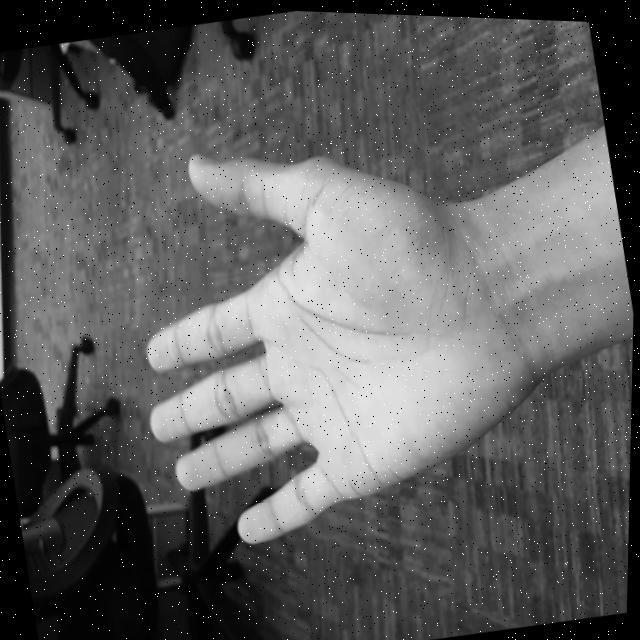no-gloves: (100, 96, 558, 568)
